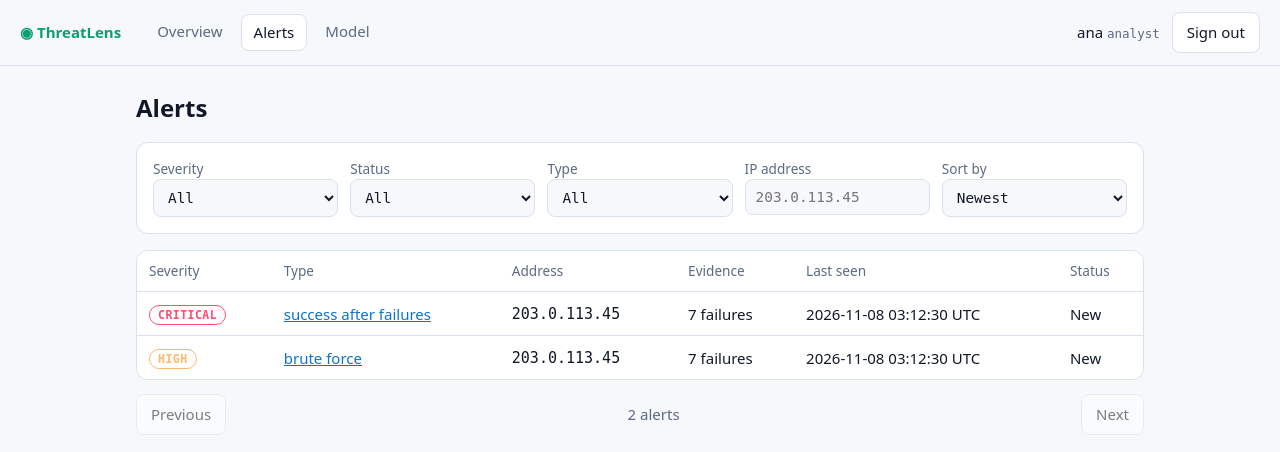
alerts list › sends the chosen filters to the API and lists the results
Check: the number of rows is 3, box [137,251,1143,292]; [137,292,1143,336]; [137,336,1143,379]
Select "Critical" in the dropdown labelled "Severity". click: (246, 198)
box: [153,179,338,217]
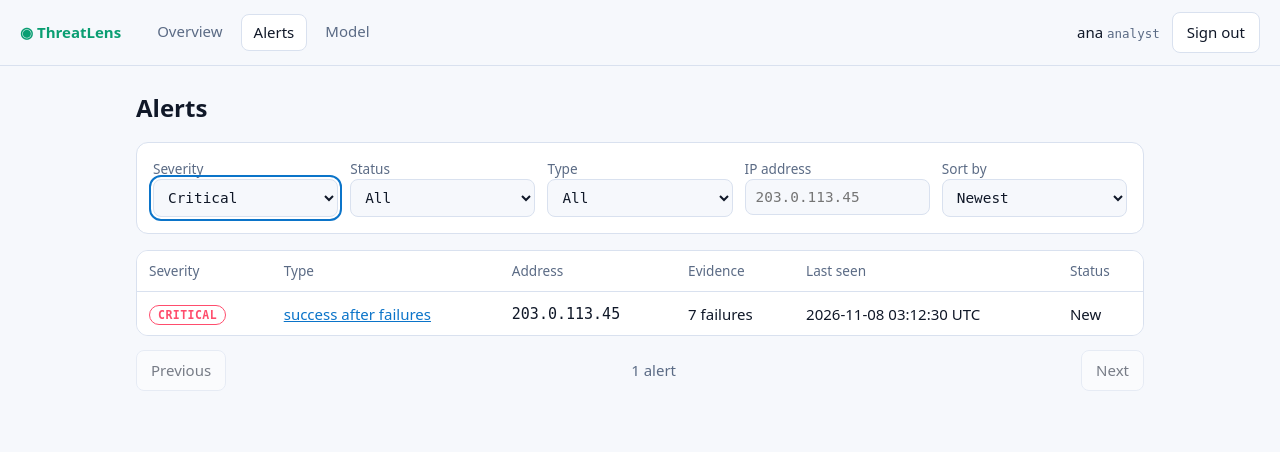
Check: the text "203.0.113.45" is shown, box [500,292,676,335]
Check: the number of rows is 2, box [137,251,1143,292]; [137,292,1143,335]
